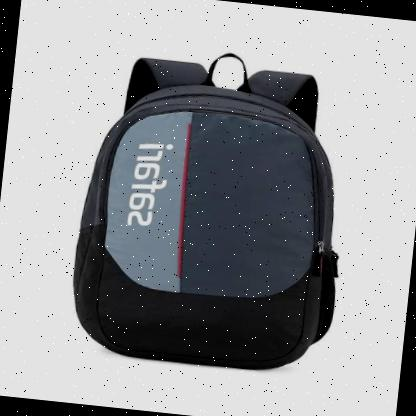bag: (57, 37, 368, 384)
